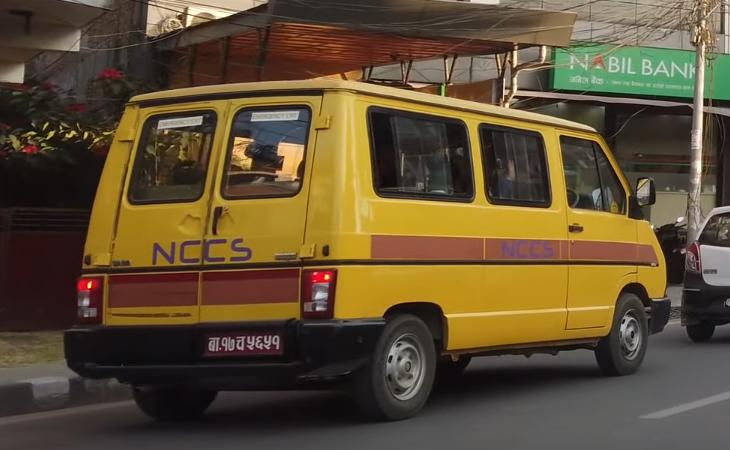school_bus: (59, 76, 677, 424)
